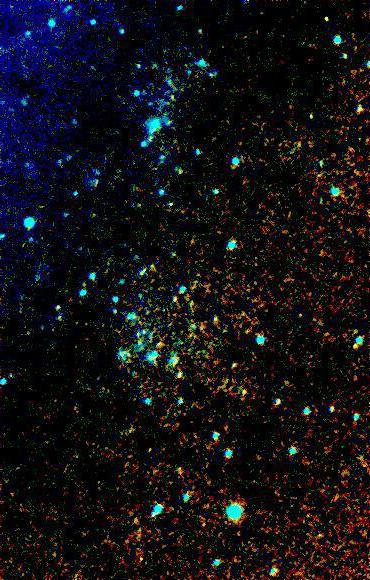star: (308, 4, 338, 34)
